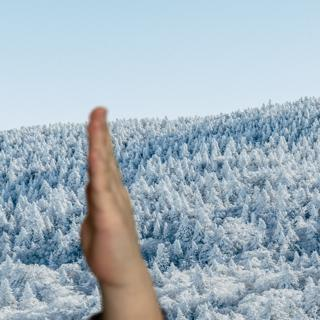RIGHT: (75, 104, 147, 286)
